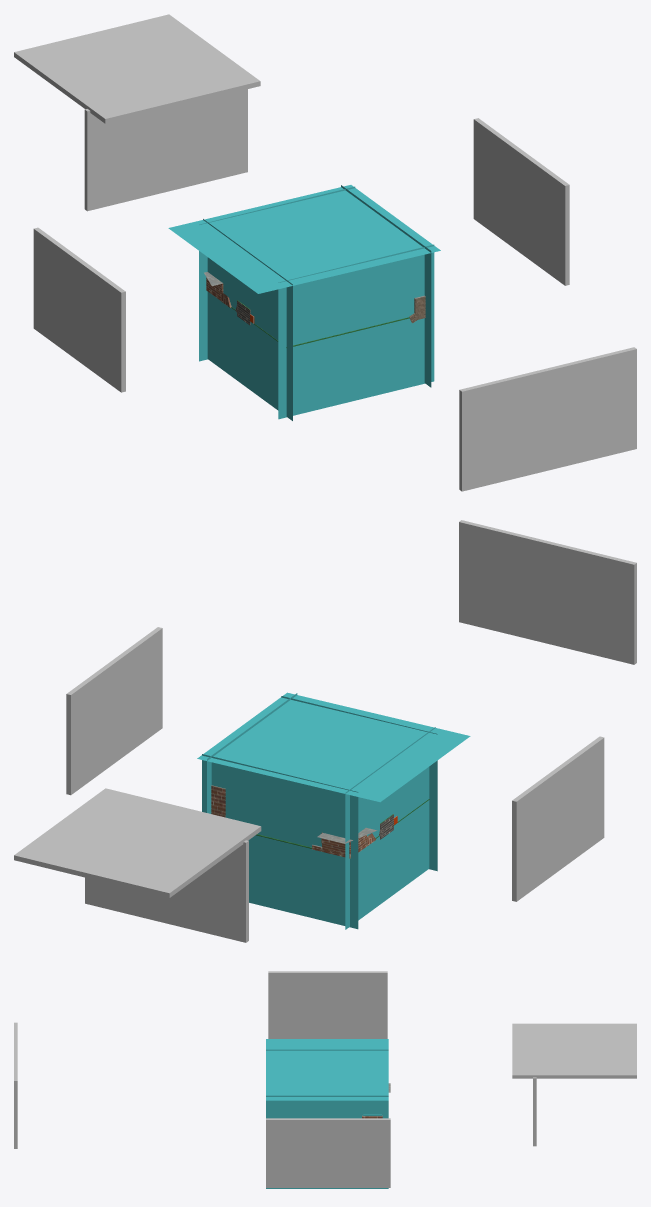
File: map.obj
3 renders of one model, top to bottom at view 1: azimuth 30°, elevation 25°; view 2: azimuth 150°, elevation 25°; view 3: azimuth 270°, elevation 25°, orthographic. The views are drawn at different scales.
Parts seen in each view (by area): view 1: textured.006, Куб, Куб.004, Куб.001, Куб.003, Куб.002; view 2: textured.006, Куб, Куб.004, Куб.003, Куб.002, Куб.001; view 3: textured.006, Куб.003, Куб.002, Куб.004, Куб.
Part boxes in pixels (x1=…): textured.006: x1=168, y1=185, x2=440, y2=420; Куб: x1=459, y1=347, x2=636, y2=491; Куб.004: x1=14, y1=14, x2=260, y2=123; Куб.001: x1=84, y1=89, x2=247, y2=211; Куб.003: x1=473, y1=118, x2=569, y2=285; Куб.002: x1=33, y1=227, x2=125, y2=392; textured.006: x1=197, y1=692, x2=470, y2=929; Куб: x1=459, y1=520, x2=636, y2=664; Куб.004: x1=14, y1=788, x2=261, y2=897; Куб.003: x1=66, y1=627, x2=162, y2=795; Куб.002: x1=512, y1=736, x2=604, y2=901; Куб.001: x1=85, y1=840, x2=248, y2=942; textured.006: x1=266, y1=1039, x2=388, y2=1188; Куб.003: x1=266, y1=1118, x2=390, y2=1187; Куб.002: x1=268, y1=971, x2=387, y2=1038; Куб.004: x1=512, y1=1023, x2=636, y2=1078; Куб: x1=14, y1=1022, x2=17, y2=1148.
Size of the model in its own units: 192 by 70.83 by 341.
Materials: 49 (44 with a texture image).
